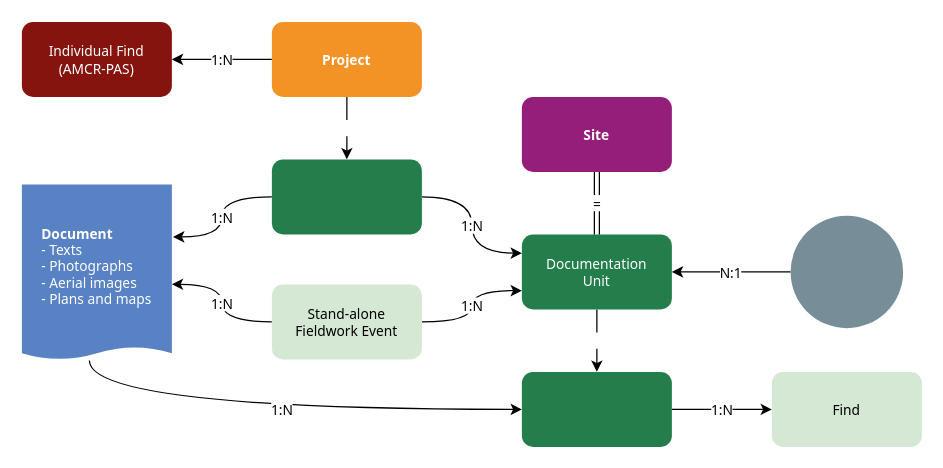
The diagram is 943 pixels wide and 468 high, and some of its shapes have lost their labels. The shapes that lost their labels are listed below. From the top down, each one's centre as x and y in pixels, then its label:
At (x=346, y=196): "Project Fieldwork Event".
At (x=846, y=271): "Spatial Unit (PIAN)".
At (x=596, y=408): "Component".
